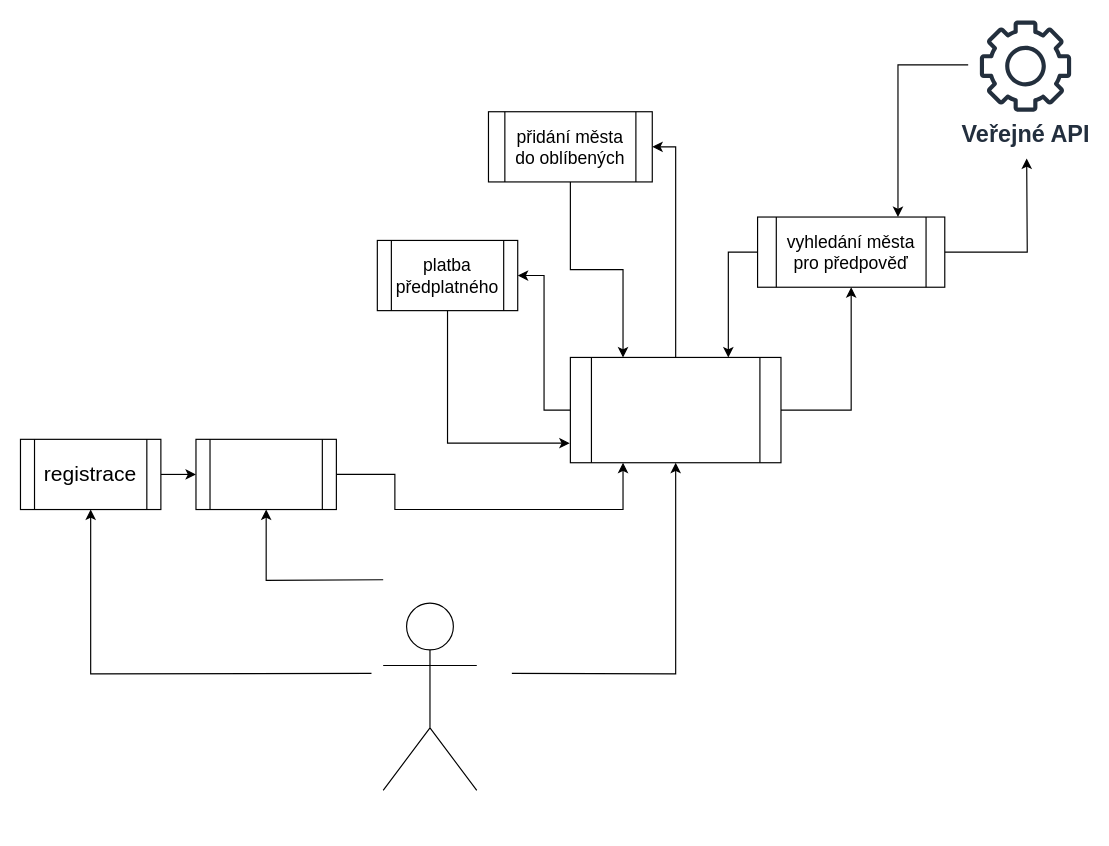
Some shapes in this 1109 by 846 pixel diagram are drawn without their labels. The shapes that lost their labels are listed below. From the top down, each one's box as (x1, y1, x2, y2) in pixels, then its label:
(569, 356, 781, 463): hlavní menu
(195, 438, 336, 510): přihlášení
(382, 602, 477, 790): Uživatel
